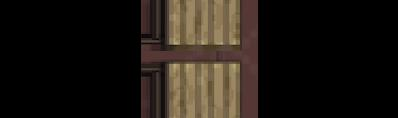Obstacle: (140, 54, 249, 118), (140, 0, 249, 53)
